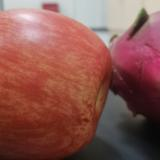apple: (1, 8, 110, 160)
pitaya: (110, 6, 160, 130)
